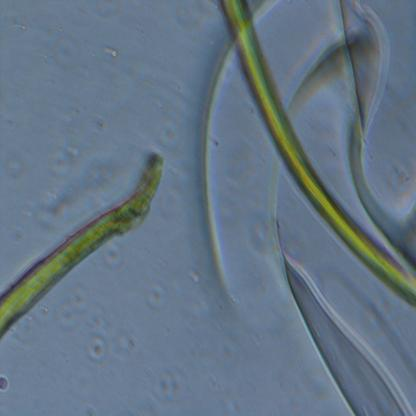Background material: (274, 0, 416, 221), (195, 74, 297, 327), (279, 250, 416, 416)
Microfibre: (221, 0, 416, 306), (0, 150, 165, 338)
